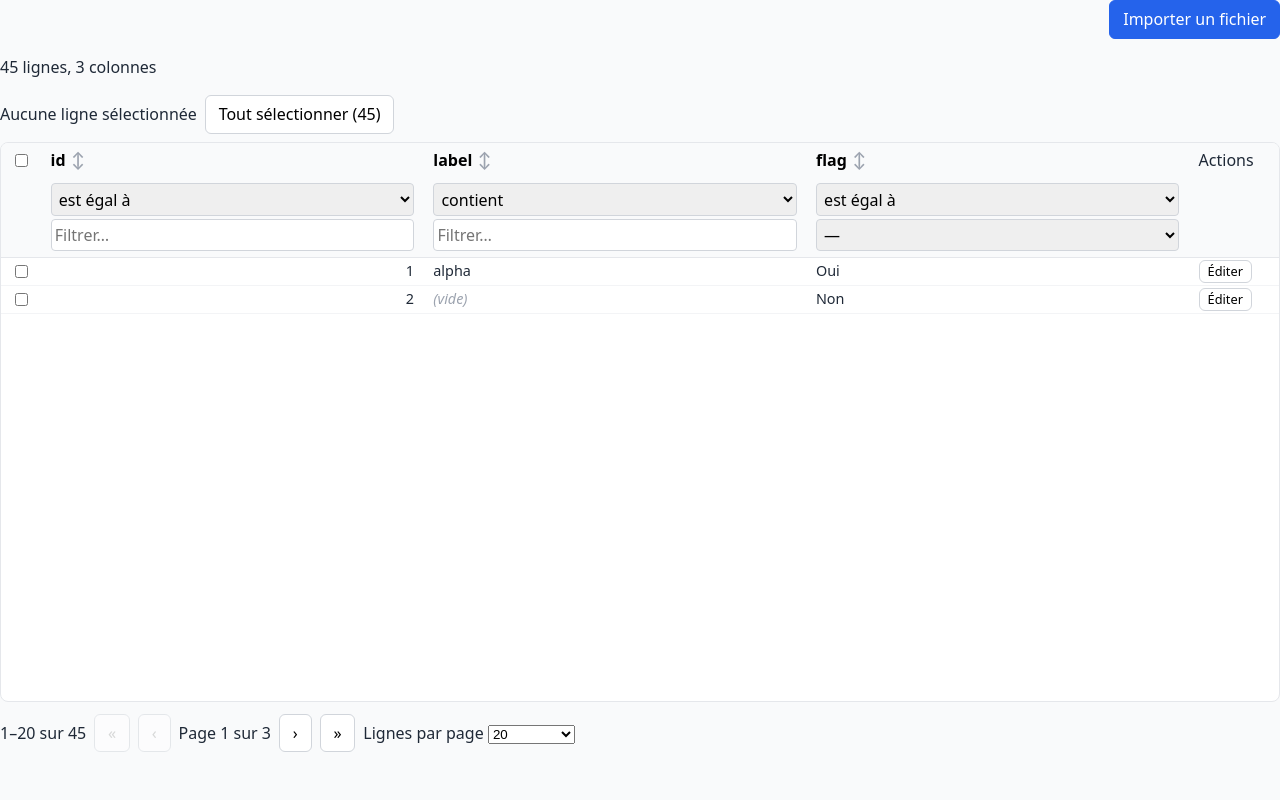
DataTab: import dialog › replace: warns that existing data will be replaced
Step 1. Click the button "Importer un fichier" → coordinates (1195, 19), box [1109, 0, 1279, 39]
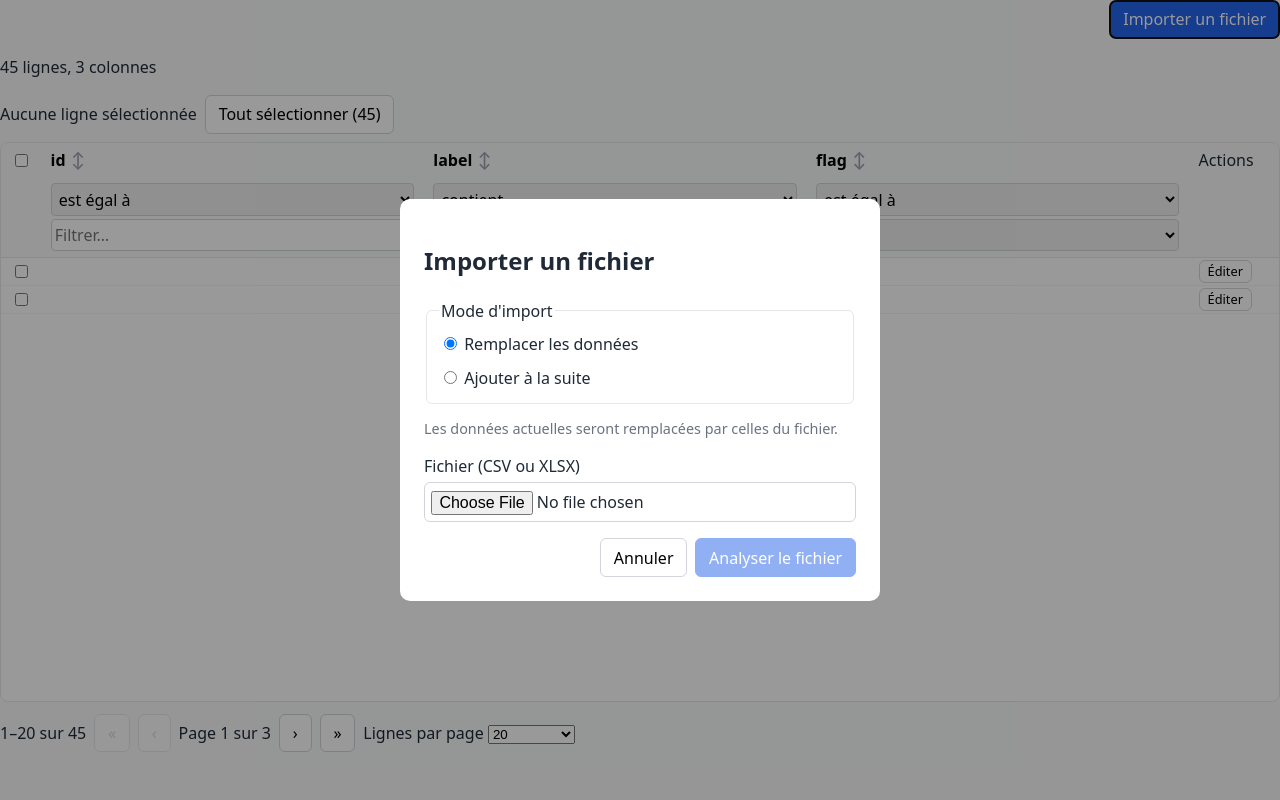
Expected: the text "seront remplacées" is shown, [424, 420, 838, 438]
